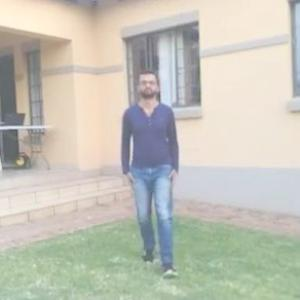follow: (120, 62, 180, 242)
